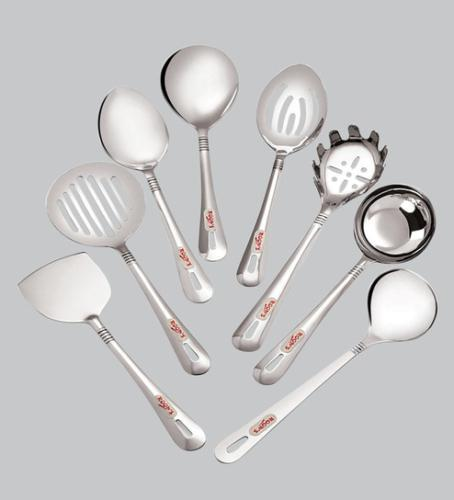Spoon: (214, 268, 438, 464), (252, 184, 436, 386), (45, 162, 212, 376), (231, 125, 388, 352), (98, 87, 214, 304), (236, 63, 327, 288), (160, 45, 239, 262)
